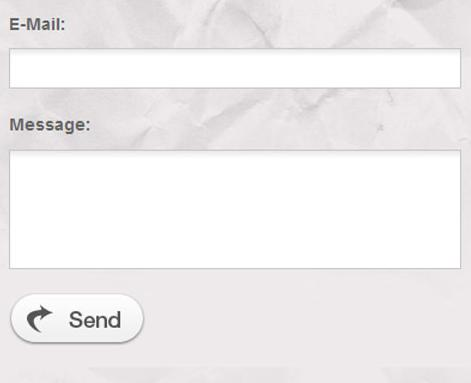button: (9, 293, 143, 345)
field: (7, 147, 463, 269), (8, 46, 462, 90)
field_with_label: (5, 117, 466, 273), (5, 17, 466, 91)
